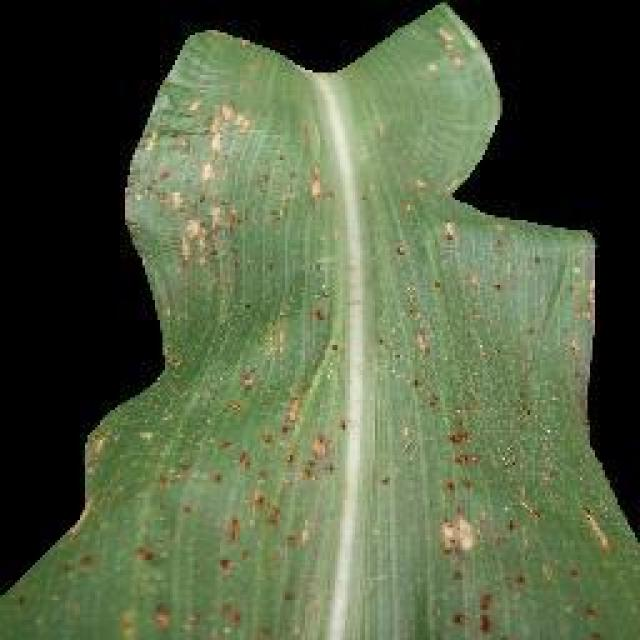Corn Common Rust: (167, 167, 553, 590)
